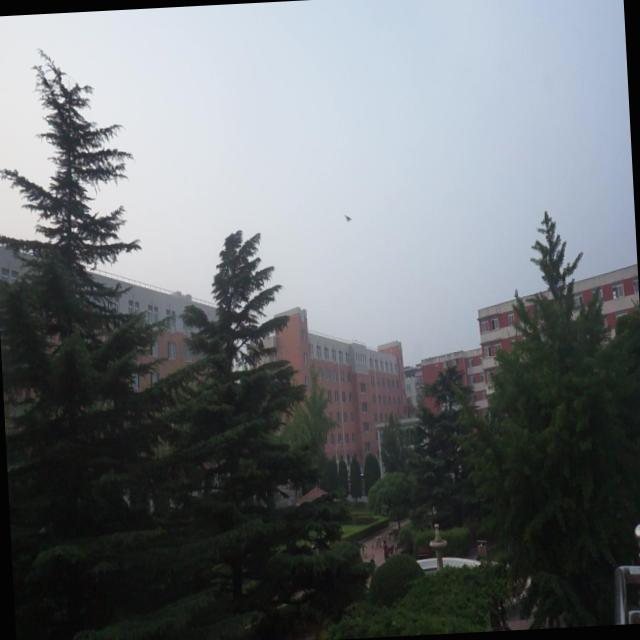drone: (343, 210, 356, 227)
